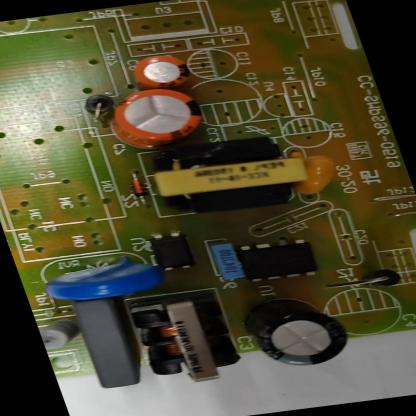Cap1: (103, 84, 212, 152)
Cap2: (127, 53, 192, 92)
Cap3: (244, 294, 354, 370)
MOSFET: (238, 238, 321, 284)
Mov: (40, 258, 168, 305)
Resistor: (36, 318, 82, 350)
Transformer: (145, 133, 311, 212), (126, 297, 246, 389)
